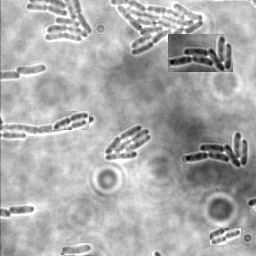Dividing: (1, 114, 95, 133), (8, 204, 35, 215)
Microcolony: (134, 38, 233, 119), (109, 1, 205, 56), (25, 1, 94, 44), (121, 196, 193, 229), (184, 130, 248, 167), (172, 156, 208, 218), (103, 124, 150, 160), (109, 154, 163, 181), (16, 63, 48, 74)
